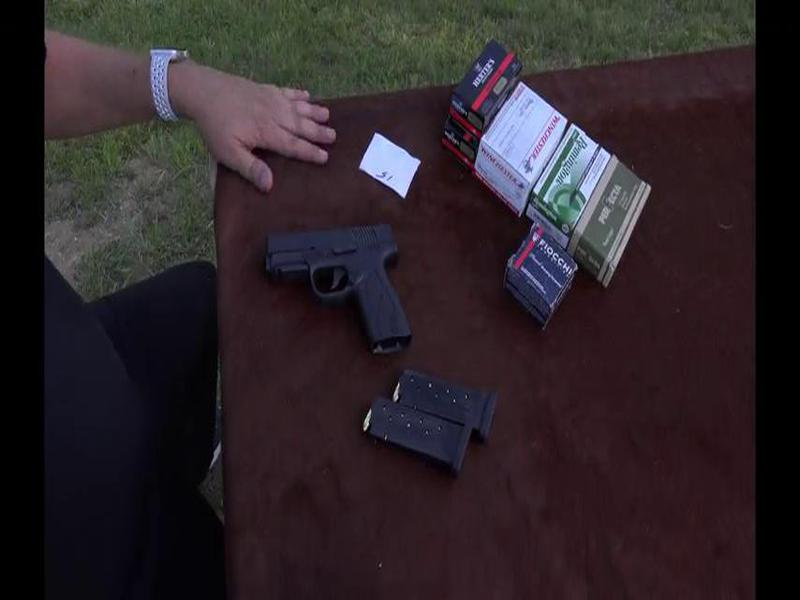Pistola: (256, 218, 415, 362)
